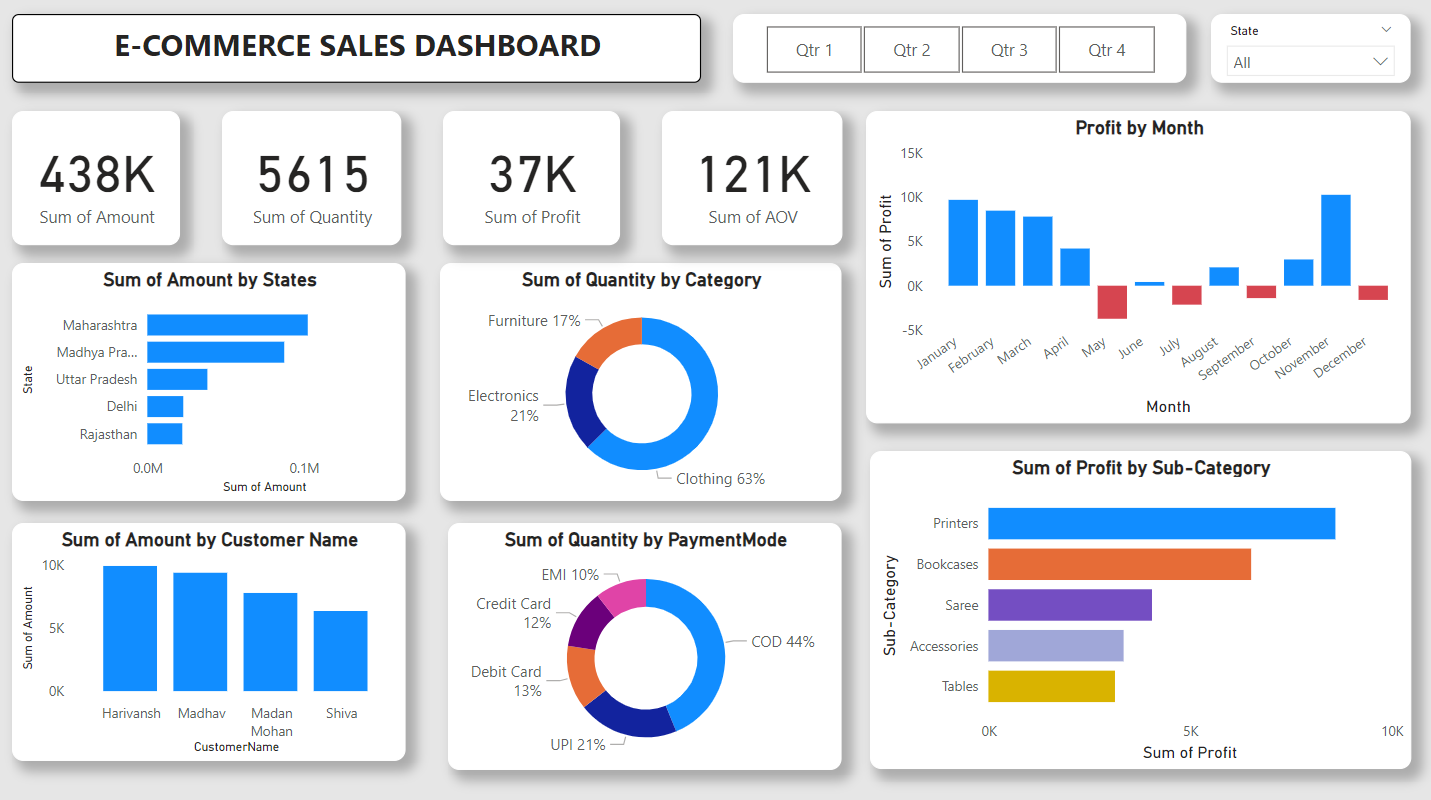

What the dashboard file says about the page in this screenshot:
{"tool":"powerbi","page":{"name":"Page 1","canvas":[1280,720],"ordinal":0},"visuals":[{"type":"textbox","box":[11.7,17.5,610.8,61.3],"z":0},{"type":"columnChart","title":"Profit by Month","fields":{"Category":["Orders.Order Date.Variation.Date Hierarchy.Month"],"Y":["Details.Profit"]},"box":[768.4,104.1,483.4,277.2],"z":1000},{"type":"barChart","title":"Sum  of Profit by Sub-Category","fields":{"Category":["Details.Sub-Category"],"Y":["Details.Profit"]},"box":[772.3,405.6,479.5,282.1],"z":2000},{"type":"donutChart","fields":{"Category":["Details.Category"],"Y":["Details.Quantity"]},"box":[391,238.3,356,211.1],"z":3000},{"type":"donutChart","fields":{"Category":["Details.PaymentMode"],"Y":["Details.Quantity"]},"box":[397.8,468.8,349.2,218.8],"z":4000},{"type":"card","fields":{"Values":["Details.Amount"]},"box":[11.7,104.1,148.8,118.7],"z":5000},{"type":"card","fields":{"Values":["Details.Quantity"]},"box":[197.8,104.1,158.5,118.7],"z":6000},{"type":"card","fields":{"Values":["Details.Profit"]},"box":[393.6,104.1,156.6,118.7],"z":7000},{"type":"card","fields":{"Values":["Details.AOV"]},"box":[587.5,104.1,159.5,118.7],"z":8000},{"type":"barChart","title":"Sum of Amount by States","fields":{"Y":["Details.Amount"],"Category":["Orders.State"]},"box":[11.7,238.3,349.2,211.1],"z":9000},{"type":"columnChart","title":"Sum of Amount by Customer Name","fields":{"Category":["Orders.CustomerName"],"Y":["Details.Amount"]},"box":[11.7,468.8,349.2,211.1],"z":10000},{"type":"slicer","fields":{"Values":["Orders.Order Date.Variation.Date Hierarchy.Quarter"]},"box":[650.7,17.5,401.7,61.3],"z":11000},{"type":"slicer","fields":{"Values":["Orders.State"]},"box":[1074.8,17.5,177,61.3],"z":12000}]}

Visuals, with their boxes in screenshot pixels (x1, y1, x2, y2), scaled from the page's 1280x720 canvas onto the 1431x800 screenshot:
textbox: left=13, top=19, right=696, bottom=88
"Profit by Month" columnChart: left=859, top=116, right=1399, bottom=424
"Sum  of Profit by Sub-Category" barChart: left=863, top=451, right=1399, bottom=764
donutChart - Details.Category x Details.Quantity: left=437, top=265, right=835, bottom=499
donutChart - Details.PaymentMode x Details.Quantity: left=445, top=521, right=835, bottom=764
card - Details.Amount: left=13, top=116, right=179, bottom=248
card - Details.Quantity: left=221, top=116, right=398, bottom=248
card - Details.Profit: left=440, top=116, right=615, bottom=248
card - Details.AOV: left=657, top=116, right=835, bottom=248
"Sum of Amount by States" barChart: left=13, top=265, right=403, bottom=499
"Sum of Amount by Customer Name" columnChart: left=13, top=521, right=403, bottom=755
slicer - Orders.Order Date.Variation.Date Hierarchy.Quarter: left=727, top=19, right=1177, bottom=88
slicer - Orders.State: left=1202, top=19, right=1399, bottom=88
